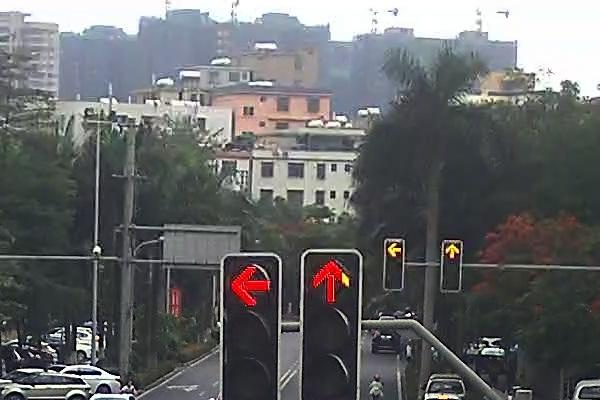redleft: (230, 264, 272, 310), (387, 242, 404, 259)
redstraight: (308, 258, 353, 306), (445, 242, 460, 260)
